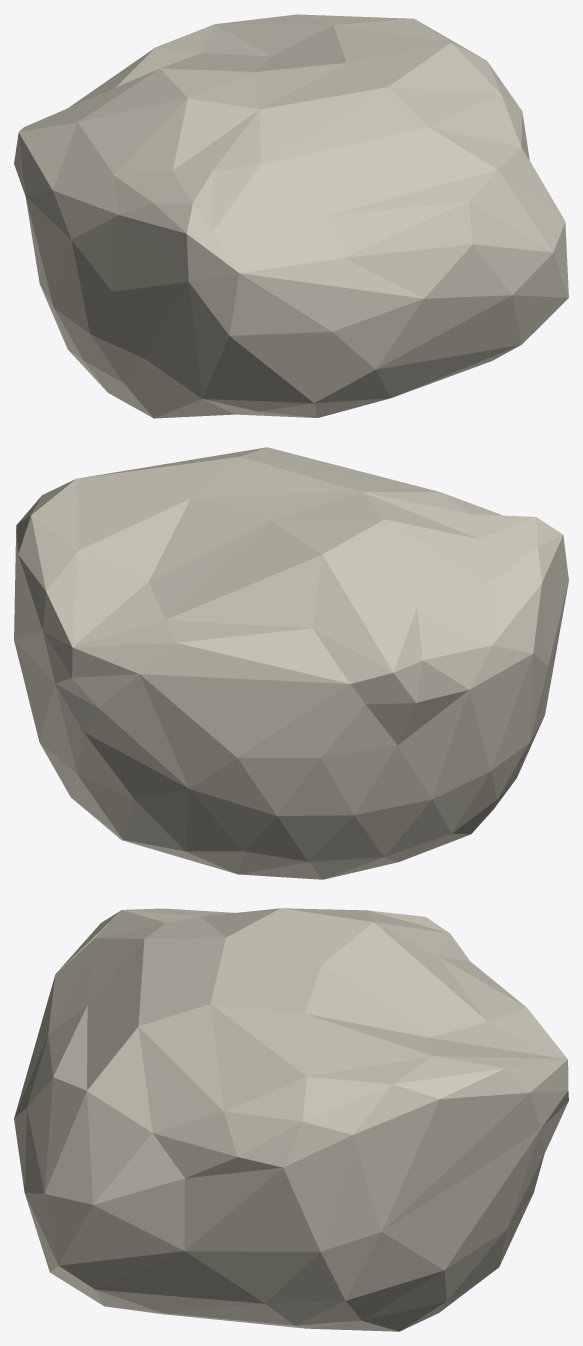
Rendered from Rock_03.fbx.
The picture shows the model from 3 angles, top to bottom: view 1: azimuth 30°, elevation 25°; view 2: azimuth 150°, elevation 25°; view 3: azimuth 270°, elevation 25°; orthographic projection. The views are drawn at different scales.
Visible parts, largest first — view 1: Icosphere.027; view 2: Icosphere.027; view 3: Icosphere.027.
Boxes of the visible parts, x1,y1,x2,y2 form: Icosphere.027: (14, 14, 568, 418); Icosphere.027: (14, 447, 568, 879); Icosphere.027: (14, 908, 568, 1331).
Bounding box in the file's own units: 494 × 302 × 485.
